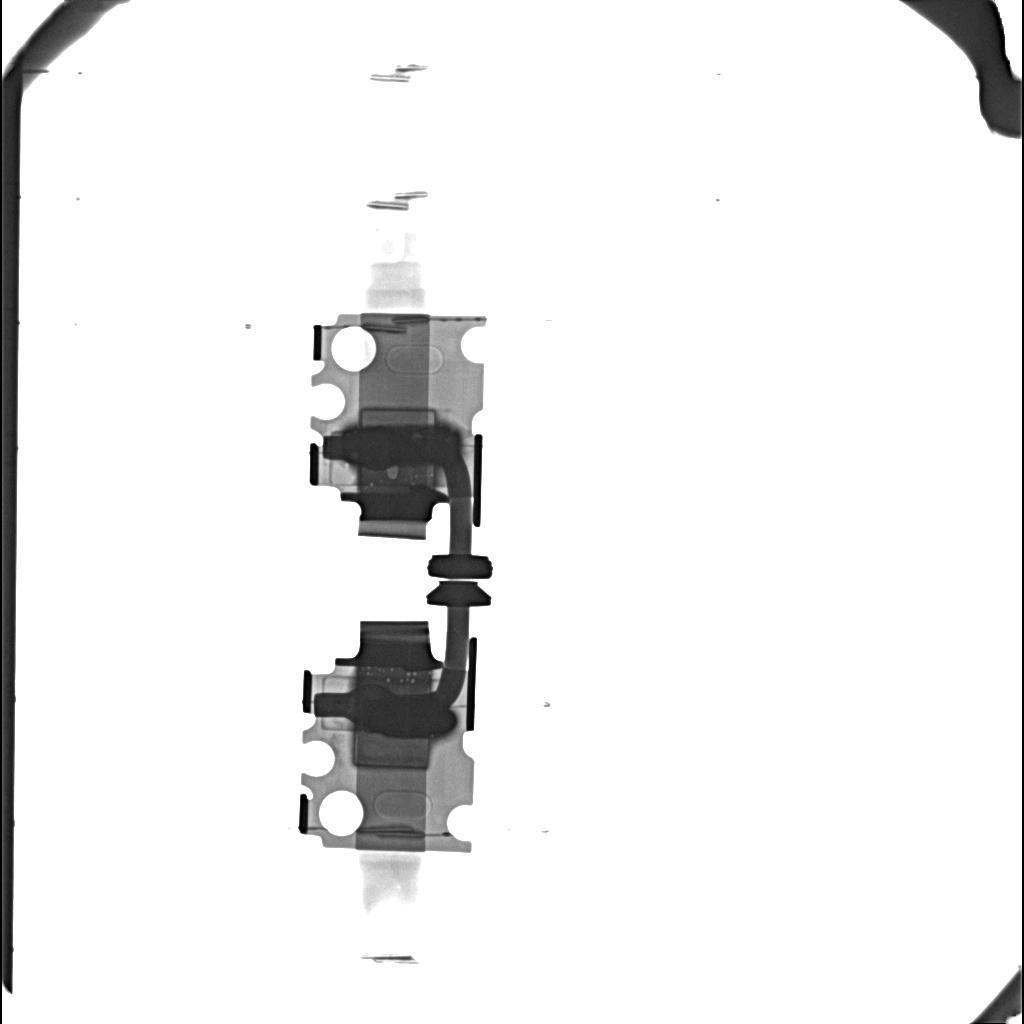PX: (352, 730, 431, 769), (359, 407, 437, 426)
QP: (387, 465, 399, 479)
SX: (342, 426, 459, 466), (361, 695, 458, 737)
